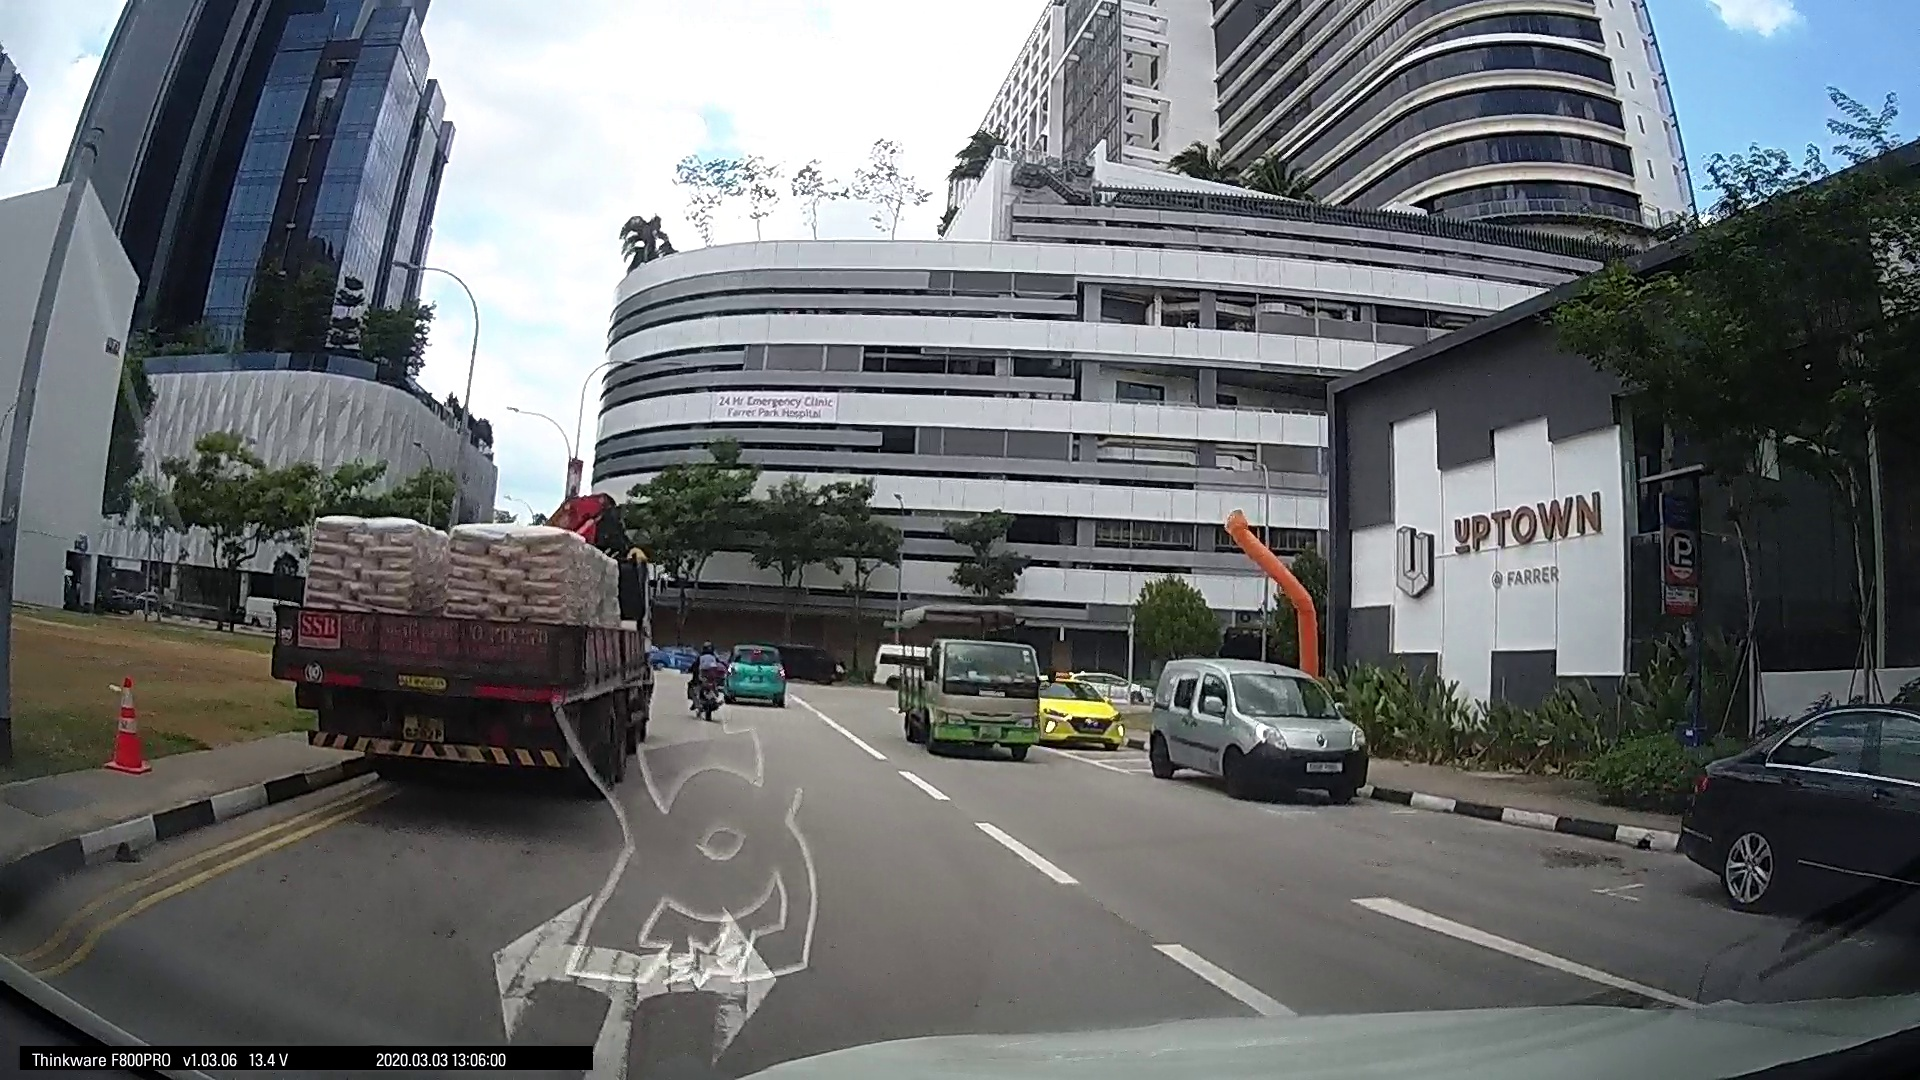Heavy Vehicle: (9, 47, 475, 997), (812, 555, 971, 736), (1279, 617, 1400, 735)
Light Vehicle: (476, 628, 810, 835), (749, 632, 876, 765), (1025, 630, 1072, 683), (1130, 642, 1176, 687)
